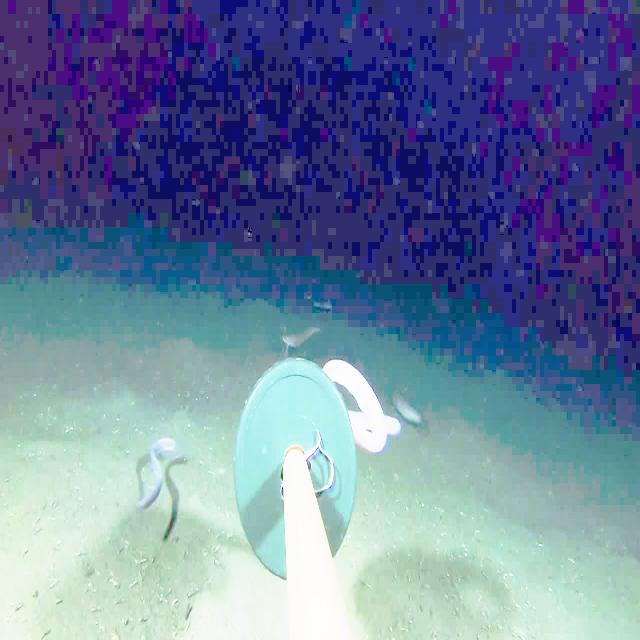eel: (320, 351, 406, 461), (123, 428, 198, 539)
fish: (272, 315, 337, 360), (393, 384, 433, 438)
pole: (231, 352, 359, 639)
